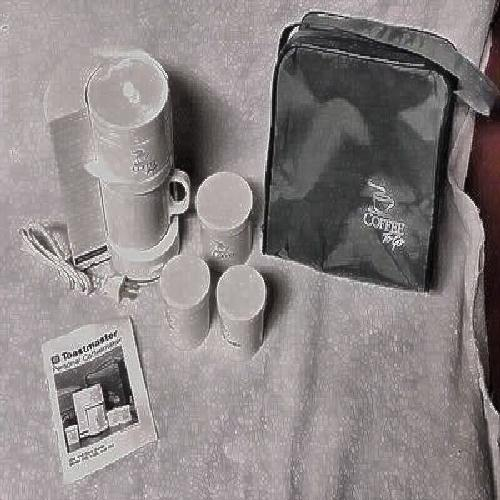coffee_maker: (75, 50, 190, 287)
